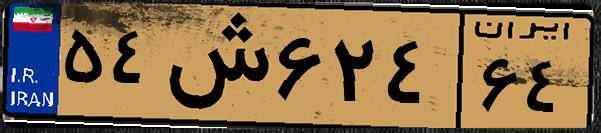2: (330, 28, 385, 110)
4: (385, 28, 445, 110), (525, 38, 570, 115), (110, 28, 158, 98)
5: (57, 26, 110, 100)
6: (270, 28, 330, 110), (475, 38, 525, 113)
ش: (158, 12, 270, 120)
